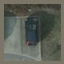car: (25, 18, 38, 47)
